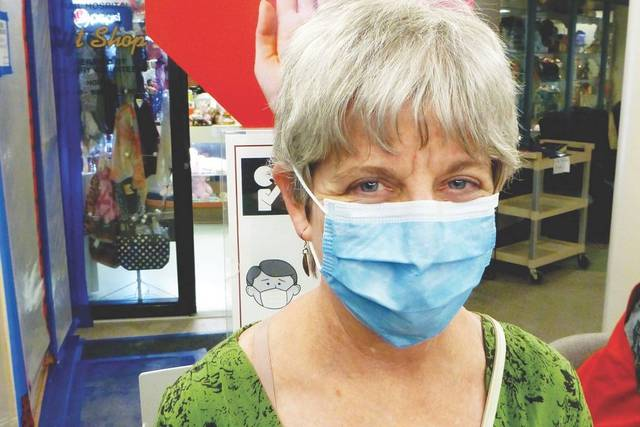mask: (326, 209, 508, 350)
